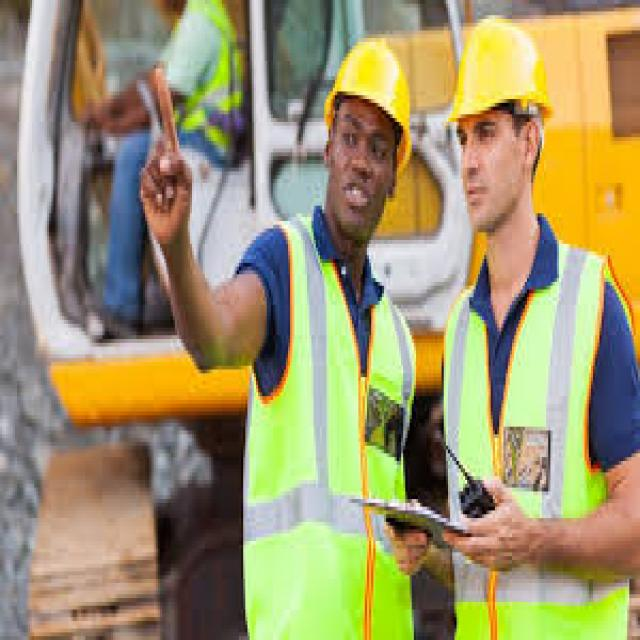Reflective-Jacket: (233, 214, 418, 636), (441, 240, 638, 636)
Safety-Helmet: (442, 15, 559, 141), (320, 30, 418, 172)
